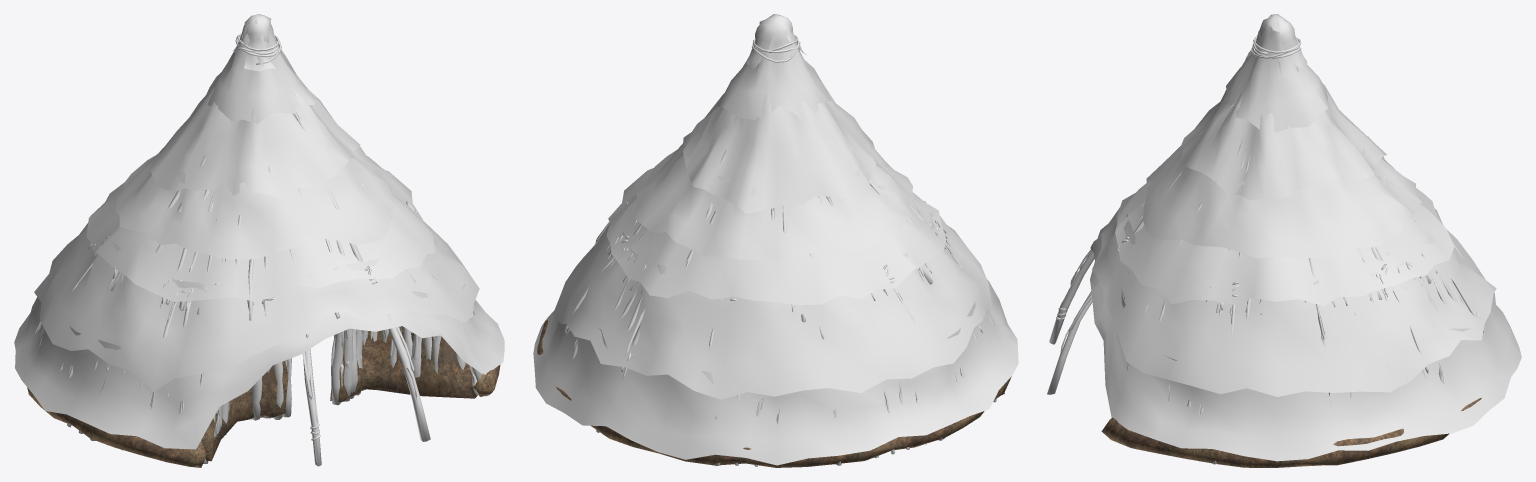
File: midpoly_african_hut_006.fbx
The picture shows the model from 3 angles, left to right: view 1: azimuth 30°, elevation 25°; view 2: azimuth 150°, elevation 25°; view 3: azimuth 270°, elevation 25°; orthographic projection.
Parts seen in each view (by area): view 1: midpoly_african_hut_006; view 2: midpoly_african_hut_006; view 3: midpoly_african_hut_006.
Part boxes in pixels (box(x1,y1,x2,y2)): midpoly_african_hut_006: box(14, 14, 504, 467); midpoly_african_hut_006: box(533, 14, 1018, 467); midpoly_african_hut_006: box(1047, 14, 1521, 467).
Size of the model in its own units: 423 by 339 by 409.
